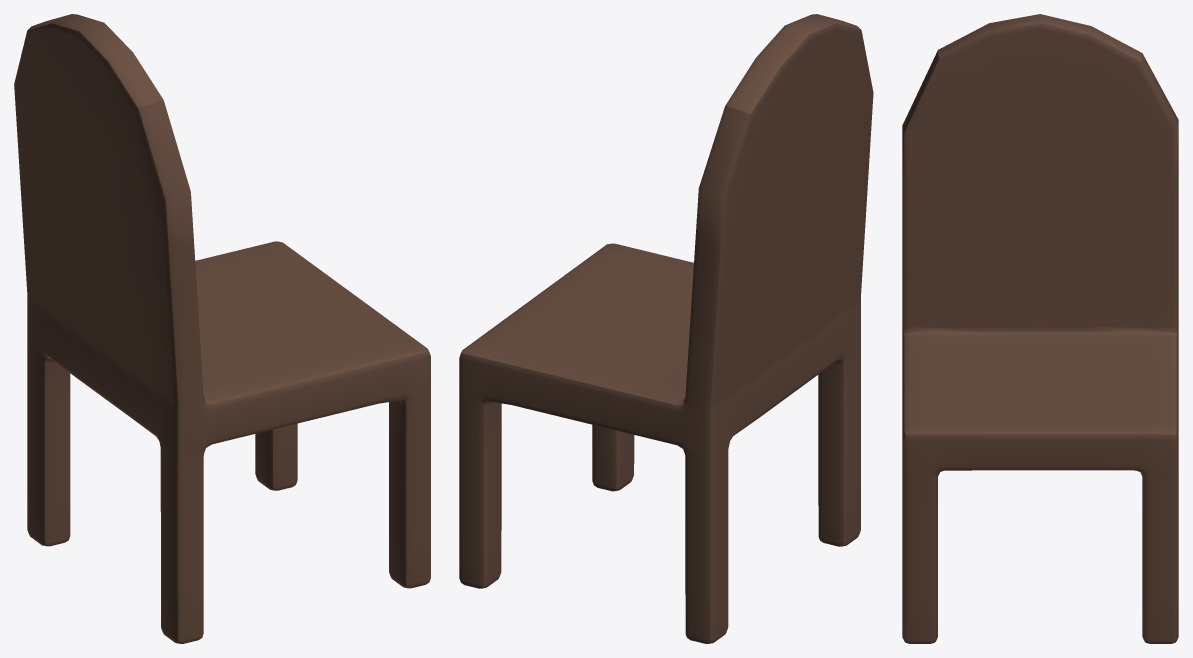
File: chaise_table_ronde.fbx
3 renders of one model, left to right at view 1: azimuth 30°, elevation 25°; view 2: azimuth 150°, elevation 25°; view 3: azimuth 270°, elevation 25°, orthographic. The views are drawn at different scales.
Parts seen in each view (by area): view 1: pCube1; view 2: pCube1; view 3: pCube1.
Part boxes in pixels (bbox=[...]): pCube1: bbox=[14, 14, 430, 643]; pCube1: bbox=[459, 14, 873, 643]; pCube1: bbox=[902, 14, 1178, 643].
Size of the model in its own units: 0.00458 by 0.00893 by 0.00435.
